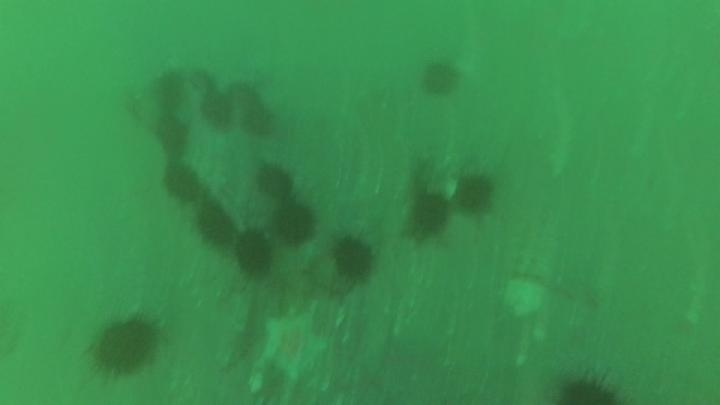echinus: (87, 310, 164, 380), (554, 368, 624, 405), (330, 233, 378, 284), (407, 190, 452, 239), (232, 228, 276, 278), (272, 200, 318, 247), (193, 201, 238, 248), (453, 170, 497, 216), (161, 161, 204, 205), (152, 113, 193, 158), (419, 58, 462, 99), (151, 68, 190, 113), (253, 161, 296, 200), (198, 88, 237, 131), (230, 72, 271, 112), (239, 102, 278, 139)
scallop: (500, 275, 549, 320)
starfish: (255, 306, 332, 385)
